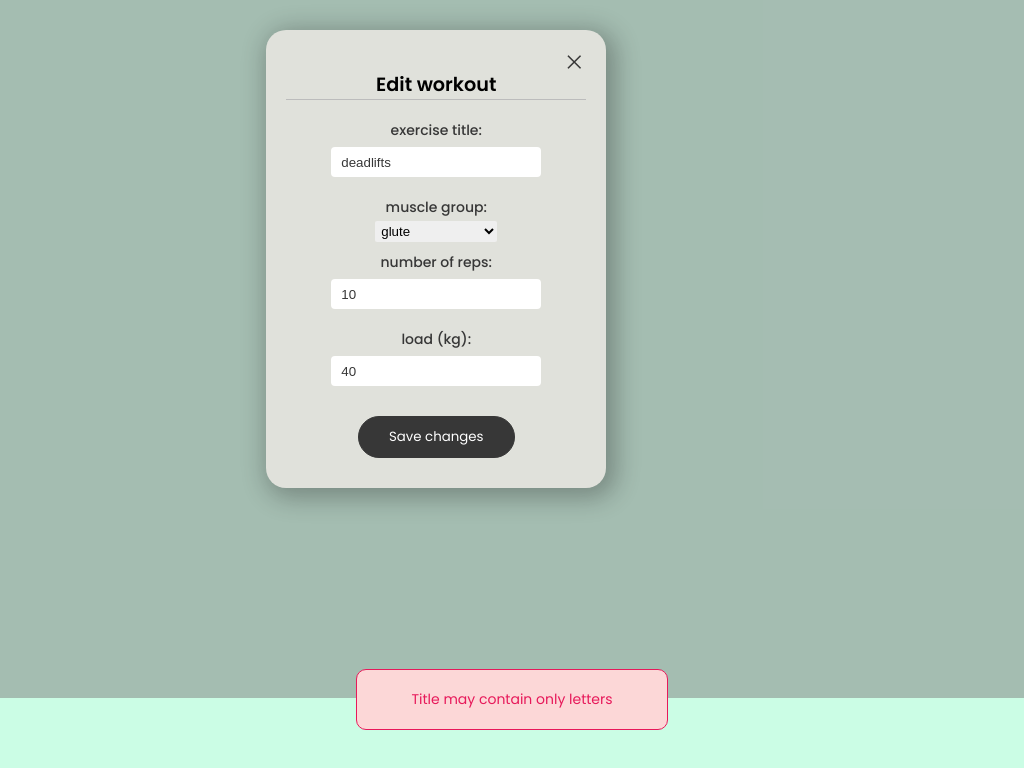
Scenario: <EditWorkout/> › should signal input error when user attempts to submit form with too large reps number
Replace the text in the number field with test id "reps" with "23848394829" at (436, 294), box left=331, top=279, right=541, bottom=309
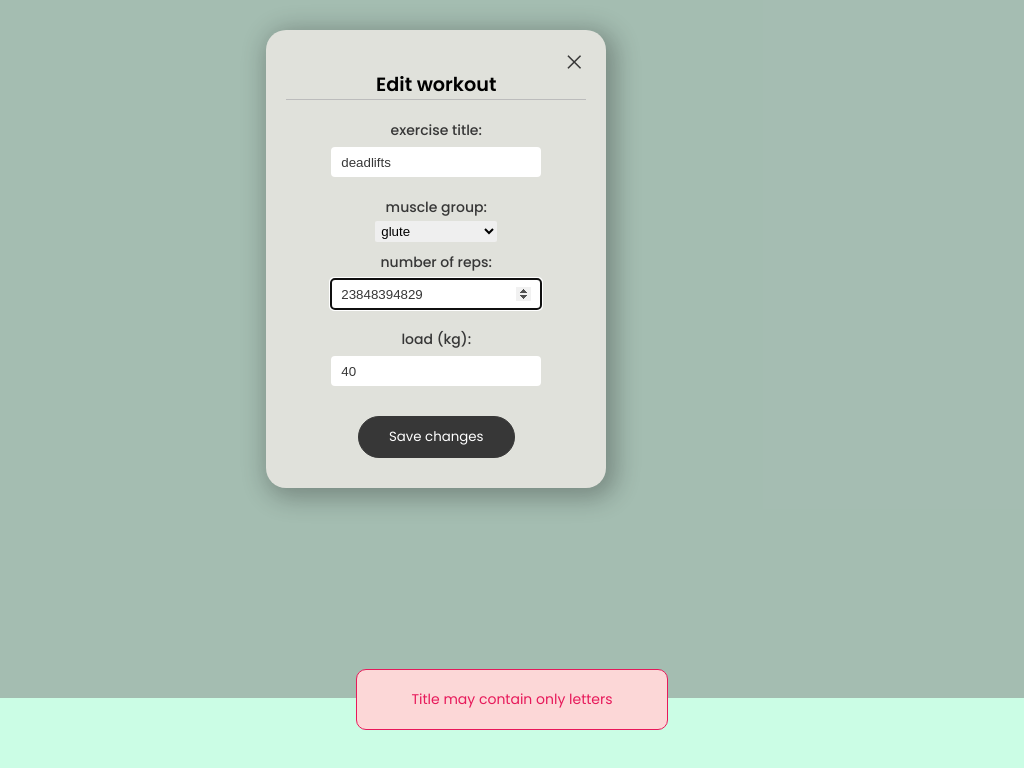
Click the button "Save changes" at (436, 437), box left=358, top=416, right=514, bottom=458
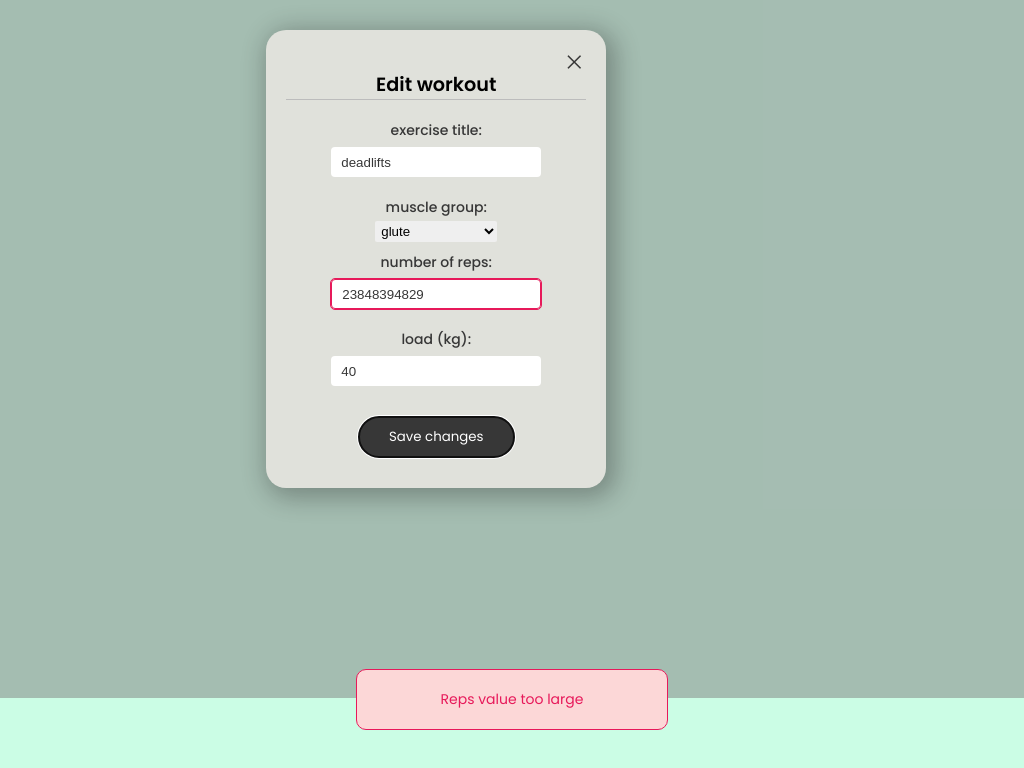
Expected: the message reads "Reps value too large", left=441, top=689, right=584, bottom=709
